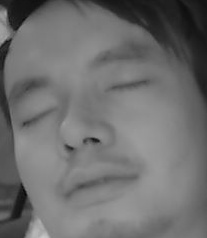blink: (107, 78, 146, 99), (19, 107, 57, 127)
mouth: (59, 162, 136, 205)
